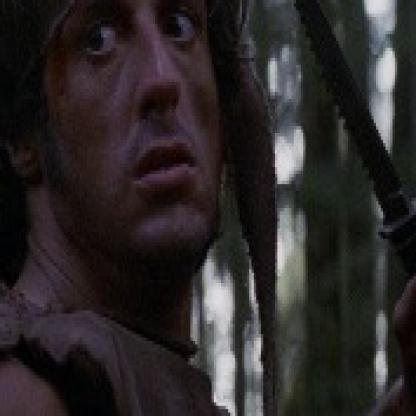knife: (244, 0, 414, 392)
